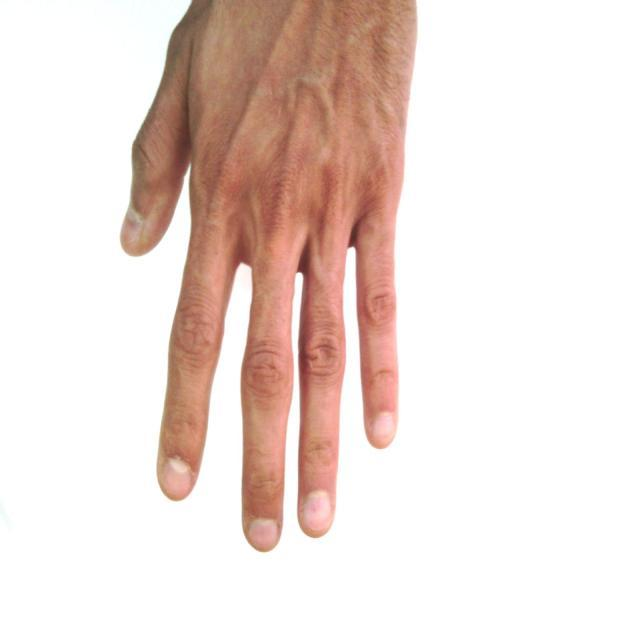Fingernail: (304, 491, 330, 529), (164, 460, 191, 496), (250, 520, 277, 548), (123, 208, 142, 244), (373, 413, 394, 443)
